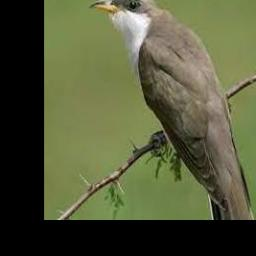Cuckoo: (90, 0, 255, 220)
